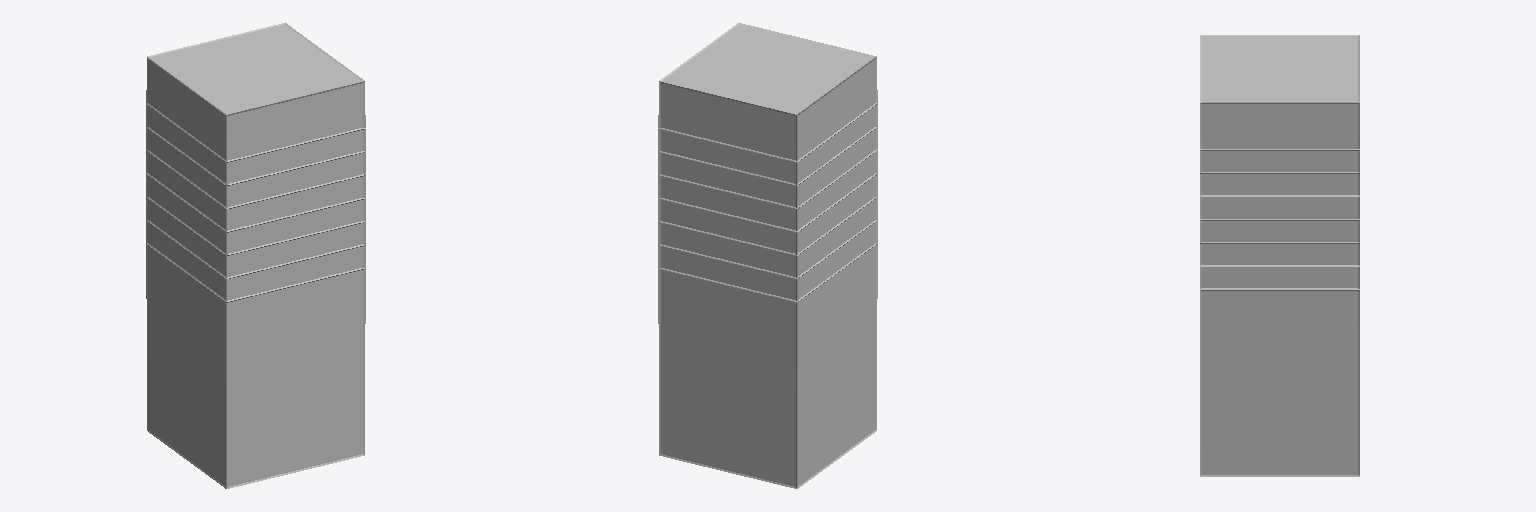
The model's file is building02.obj.
The picture shows the model from 3 angles: view 1: azimuth 30°, elevation 25°; view 2: azimuth 150°, elevation 25°; view 3: azimuth 270°, elevation 25°; orthographic projection.
Visible parts, largest first — view 1: Cube.001; view 2: Cube.001; view 3: Cube.001.
Boxes of the visible parts, x1=… form: Cube.001: x1=146, y1=23, x2=365, y2=488; Cube.001: x1=658, y1=23, x2=877, y2=488; Cube.001: x1=1200, y1=35, x2=1359, y2=476.
Size of the model in its own units: 2.02 by 5.2 by 2.02.